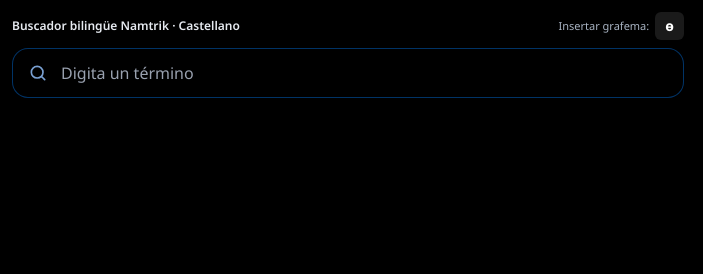
Scenario: SearchBox › permite insertar grafema Namtrik ɵ y confirma la supresión de ɨ
The image size is (703, 274).
Click the button "ɵ" at (670, 26), box [655,12,684,40]
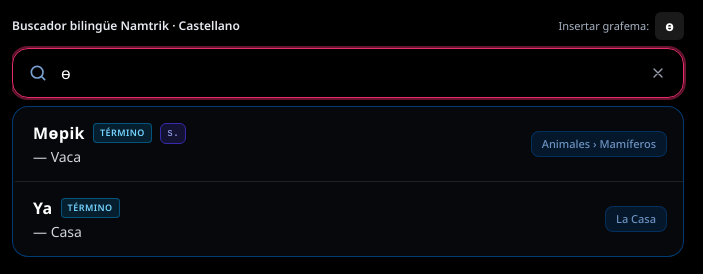
Check: the dropdown holds "ɵ", box [12,48,684,98]
